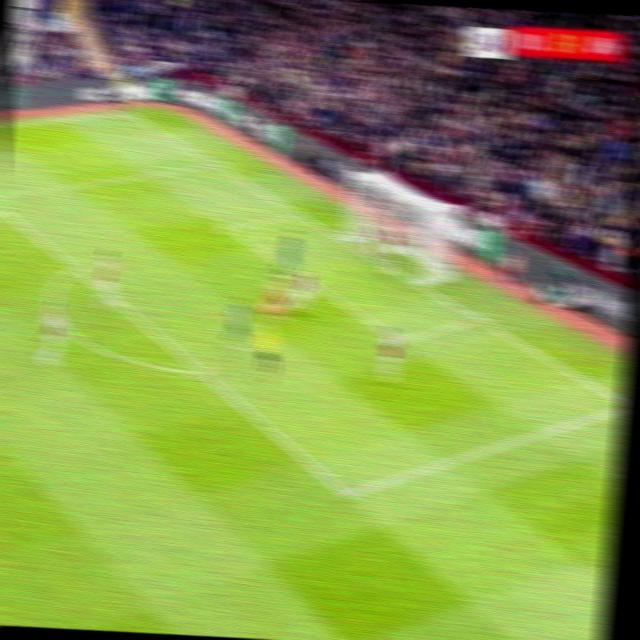bigarea_bottom_inner: (330, 476, 363, 510)
bigarea_top_outter: (204, 153, 226, 172)
bottom_arc_area_intersection: (187, 356, 214, 384)
corner: (113, 104, 138, 120)
smallarea_bottom_outter: (465, 304, 495, 331)
smallarea_top_inner: (217, 216, 242, 238)
smallarea_top_outter: (288, 202, 313, 224)
top_arc_area_intersection: (63, 255, 87, 277)
